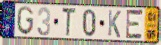0: (81, 8, 98, 38)
3: (37, 6, 52, 37)
E: (125, 8, 144, 42)
G: (16, 6, 35, 36)
K: (107, 9, 122, 39)
T: (61, 6, 77, 38)
